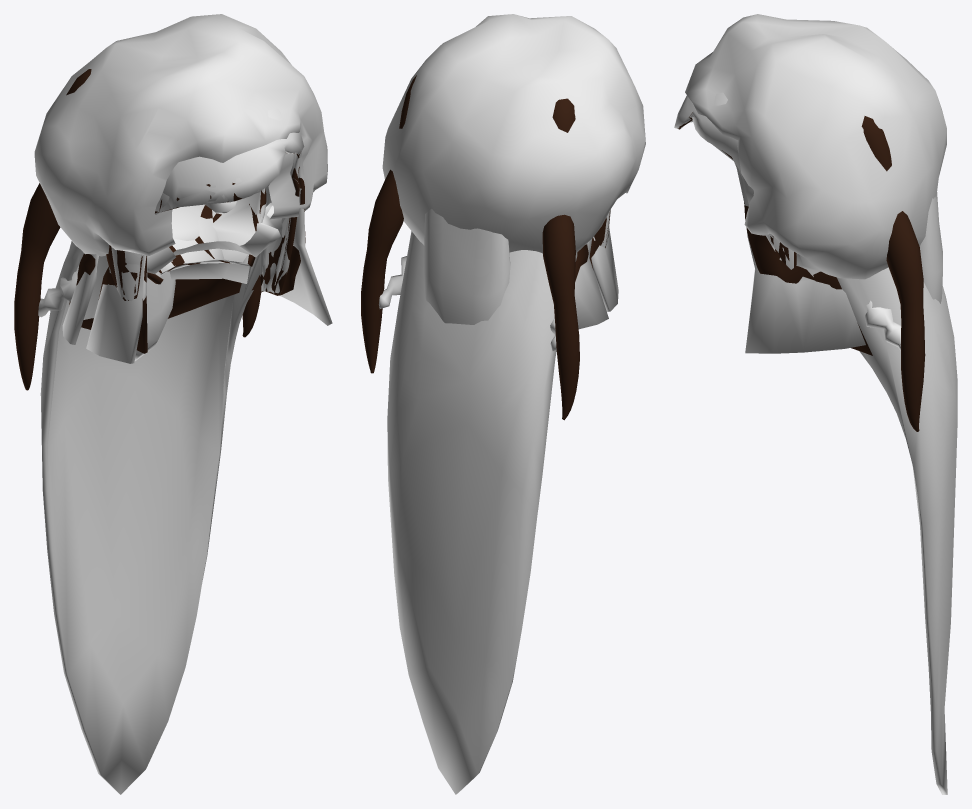
The model's file is getLucky_Hair.fbx.
The picture shows the model from 3 angles, left to right: view 1: azimuth 30°, elevation 25°; view 2: azimuth 150°, elevation 25°; view 3: azimuth 270°, elevation 25°; orthographic projection. The views are drawn at different scales.
Parts seen in each view (by area): view 1: Hair5, Hair8, Hair1, Hair9, Hair6, Hair3, Hair4, Hair2; view 2: Hair5, Hair8, Hair9, Hair6, Hair1, Hair3; view 3: Hair8, Hair5, Hair1, Hair9, Hair4, Hair6, Hair3.
Part boxes in pixels (box(x1,y1,x2,y2)): Hair5: box(40, 108, 304, 794); Hair8: box(34, 14, 327, 274); Hair1: box(62, 152, 332, 363); Hair9: box(14, 69, 301, 390); Hair6: box(111, 150, 301, 361); Hair3: box(38, 144, 300, 317); Hair4: box(69, 152, 305, 353); Hair2: box(114, 145, 301, 300); Hair5: box(387, 231, 592, 794); Hair8: box(382, 14, 645, 253); Hair9: box(361, 75, 610, 420); Hair6: box(423, 209, 609, 324); Hair1: box(574, 228, 618, 329); Hair3: box(379, 211, 609, 350); Hair8: box(685, 14, 946, 279); Hair5: box(674, 92, 957, 794); Hair1: box(689, 116, 865, 353); Hair9: box(679, 116, 925, 431); Hair4: box(678, 112, 872, 355); Hair6: box(680, 113, 942, 303); Hair3: box(681, 114, 901, 350).
Size of the model in its own units: 30.02 by 88.01 by 29.58.
